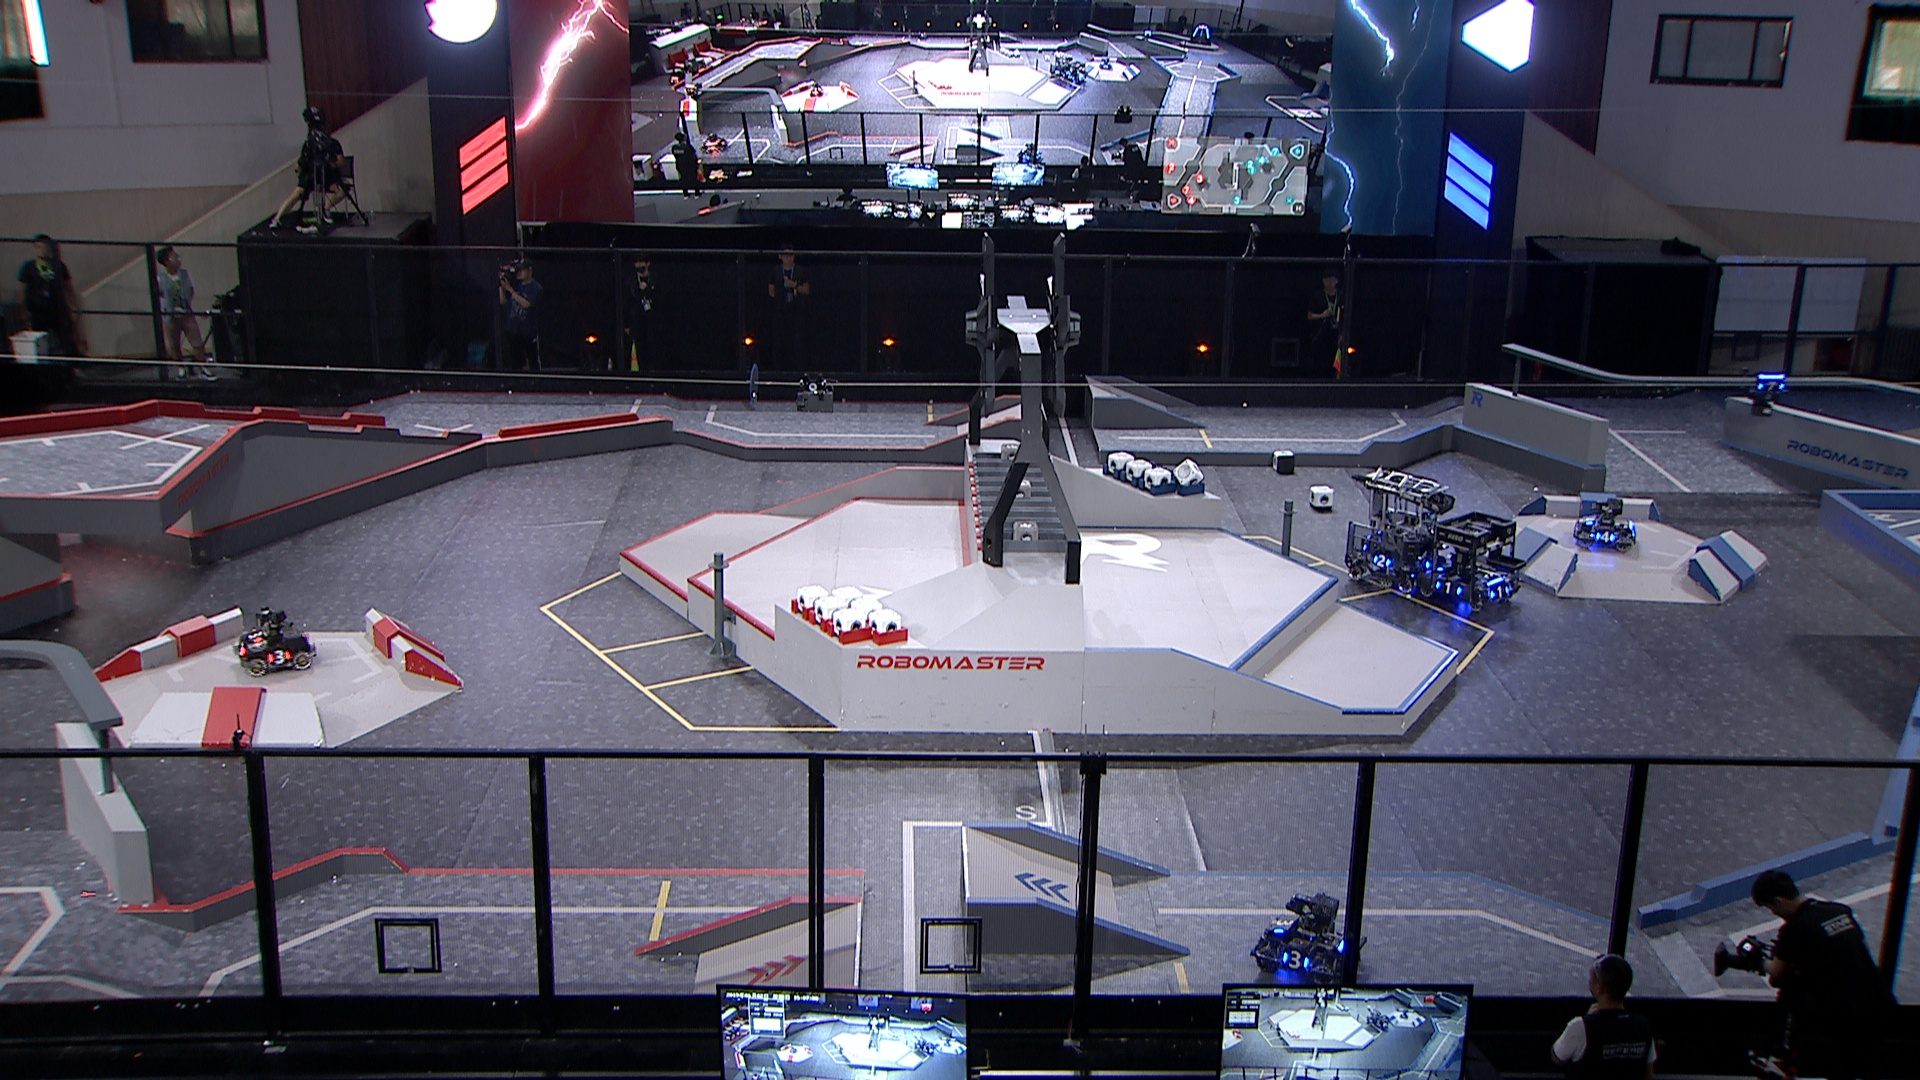armor: (1280, 949, 1313, 971), (262, 647, 291, 665), (1433, 582, 1462, 597), (1371, 551, 1393, 570), (1273, 916, 1295, 934), (1487, 585, 1513, 600), (1756, 381, 1788, 392), (244, 628, 264, 642), (1594, 531, 1617, 543), (235, 641, 249, 657), (1581, 512, 1596, 524)
car: (1340, 469, 1452, 595), (1247, 891, 1370, 986), (1419, 512, 1527, 613), (231, 604, 316, 676), (1571, 498, 1636, 553)
ignore: (1059, 59, 1087, 86), (1046, 51, 1073, 76), (1188, 24, 1215, 47), (700, 131, 728, 152), (1015, 142, 1043, 164), (667, 62, 690, 84), (684, 82, 702, 102), (807, 80, 825, 98), (1096, 55, 1112, 71)
watcher: (1743, 367, 1789, 418)
